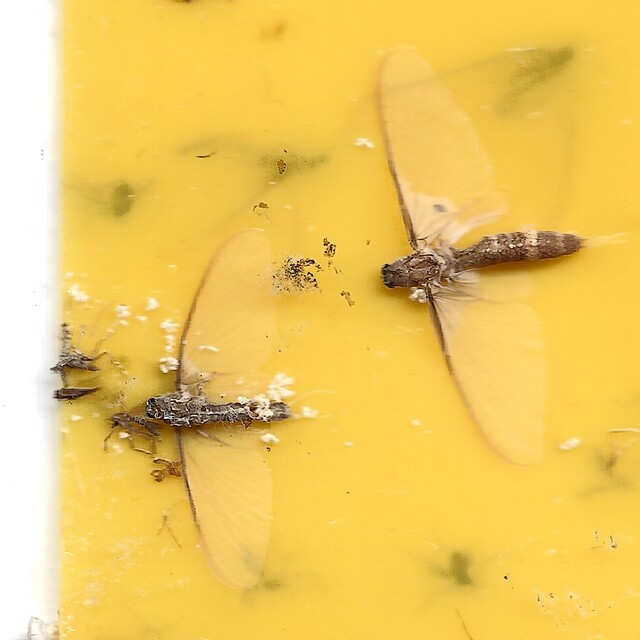Ephemeroptera: (370, 46, 587, 469), (146, 227, 292, 594)
Nematocera: (53, 319, 100, 378), (107, 408, 164, 453)
